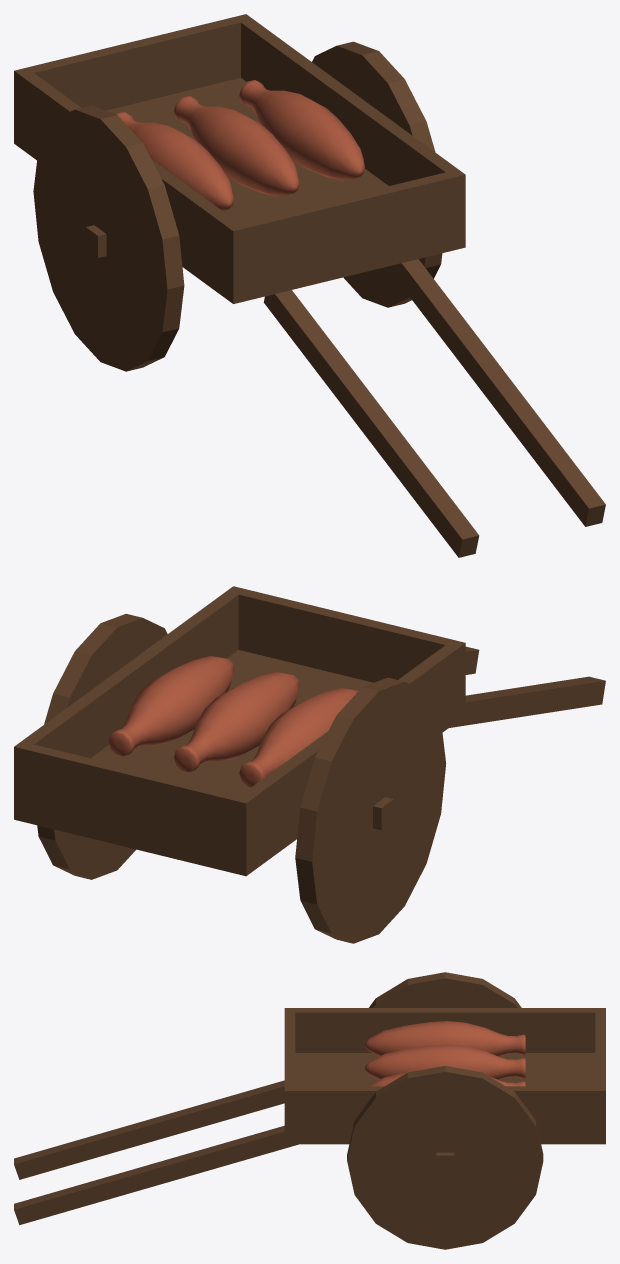
Rendered from rome_cart.glb.
The picture shows the model from 3 angles, top to bottom: view 1: azimuth 30°, elevation 25°; view 2: azimuth 150°, elevation 25°; view 3: azimuth 270°, elevation 25°; orthographic projection. The views are drawn at different scales.
Parts seen in each view (by area): view 1: rome_cart; view 2: rome_cart; view 3: rome_cart.
Part boxes in pixels (<box>): rome_cart: <box>14,14,605,557</box>; rome_cart: <box>14,586,605,943</box>; rome_cart: <box>14,972,605,1249</box>.
Bounding box in the file's own units: 1.4 × 1.1 × 3.32.
